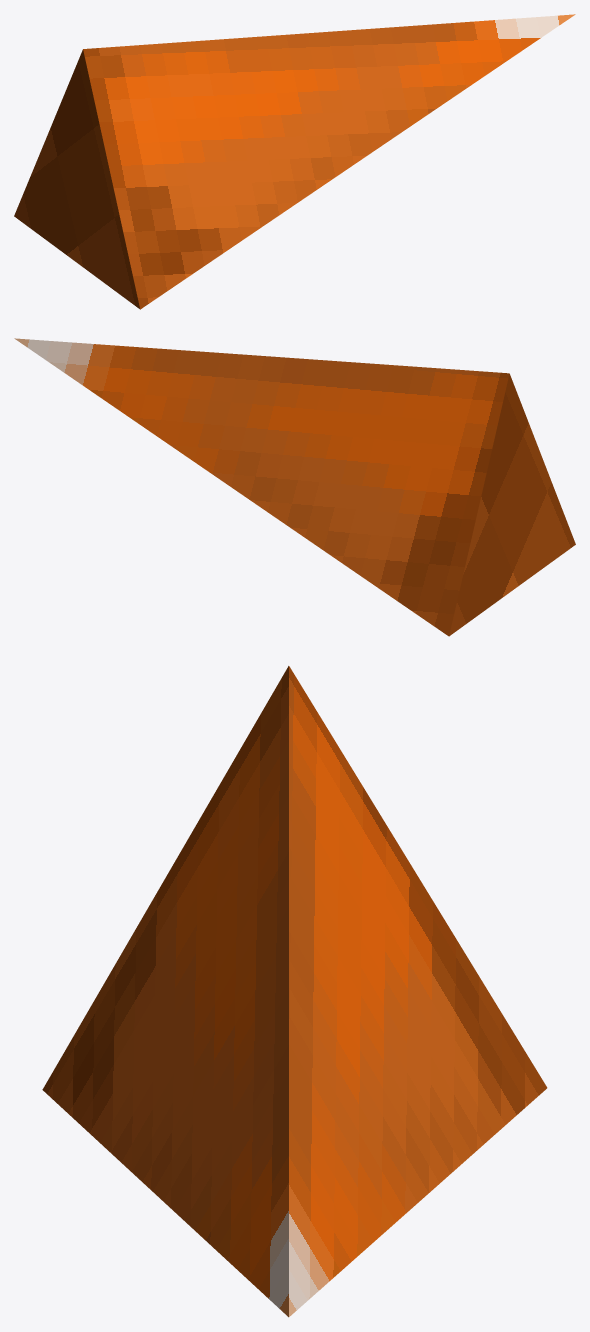
Rendered from prj_nail.glb.
The picture shows the model from 3 angles, top to bottom: view 1: azimuth 30°, elevation 25°; view 2: azimuth 150°, elevation 25°; view 3: azimuth 270°, elevation 25°; orthographic projection. The views are drawn at different scales.
Visible parts, largest first — view 1: Cube; view 2: Cube; view 3: Cube.
Part boxes in pixels (<box>): Cube: <box>14,14,575,309</box>; Cube: <box>14,338,575,636</box>; Cube: <box>42,666,547,1317</box>.
Bounding box in the file's own units: 0.2637 × 0.1086 × 0.116.
1 material, 1 textured.
